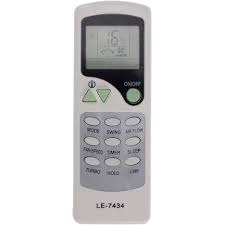remote control: (77, 6, 148, 225)
